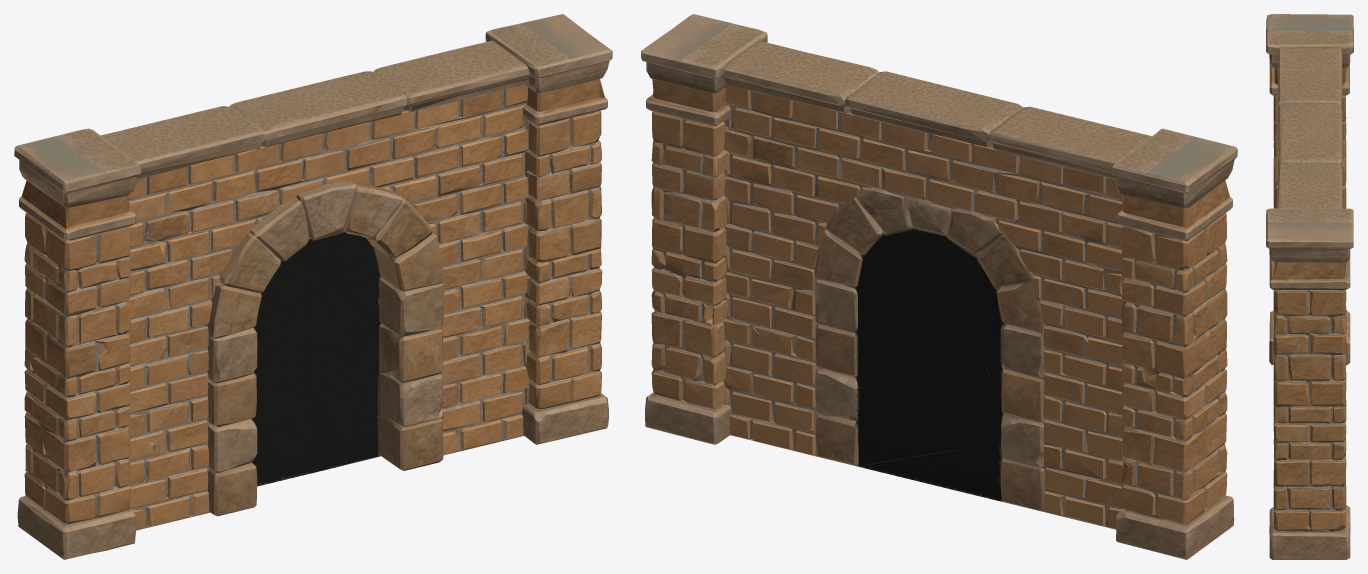
File: wall_door.glb
3 renders of one model, left to right at view 1: azimuth 30°, elevation 25°; view 2: azimuth 150°, elevation 25°; view 3: azimuth 270°, elevation 25°, orthographic. The views are drawn at different scales.
Size of the model in its own units: 1.9 by 1.26 by 0.3117.
Materials: 1 (1 with a texture image).
